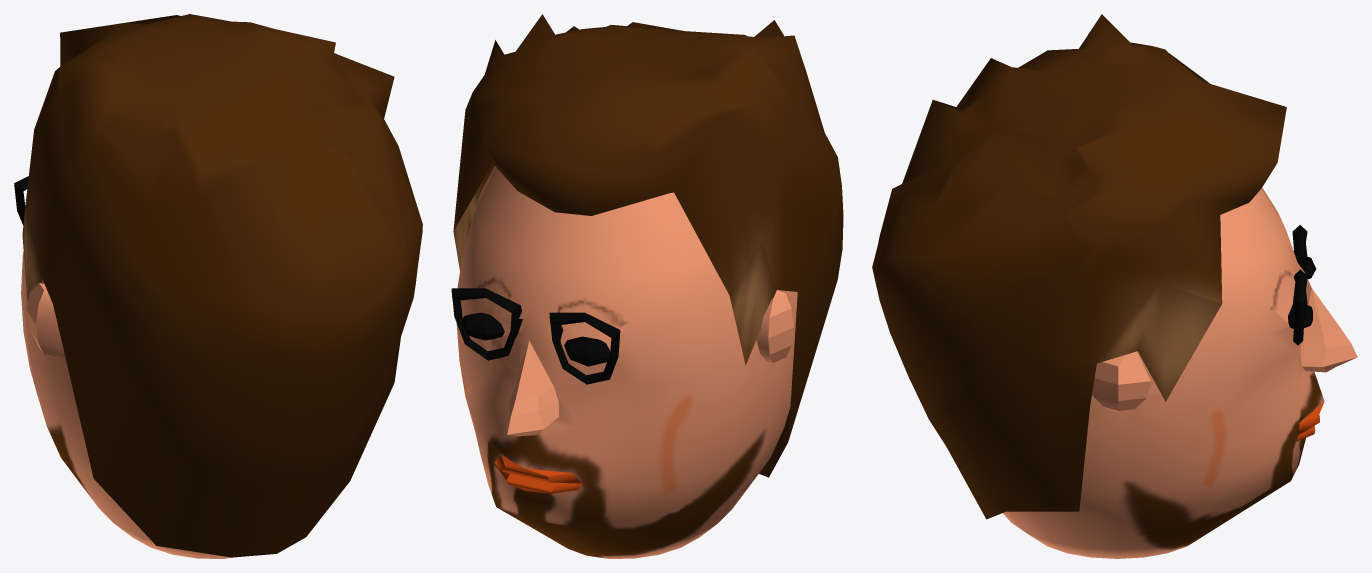
Rendered from VolperHead.fbx.
3 renders of one model, left to right at view 1: azimuth 30°, elevation 25°; view 2: azimuth 150°, elevation 25°; view 3: azimuth 270°, elevation 25°, orthographic. The views are drawn at different scales.
Parts seen in each view (by area): view 1: Volper; view 2: Volper; view 3: Volper.
Boxes of the visible parts, box(x1,y1,x2,y2) form: Volper: box(14, 14, 422, 558); Volper: box(451, 14, 843, 558); Volper: box(872, 14, 1357, 558).
Size of the model in its own units: 1.63 by 2.37 by 2.26.
Materials: 1 (1 with a texture image).
